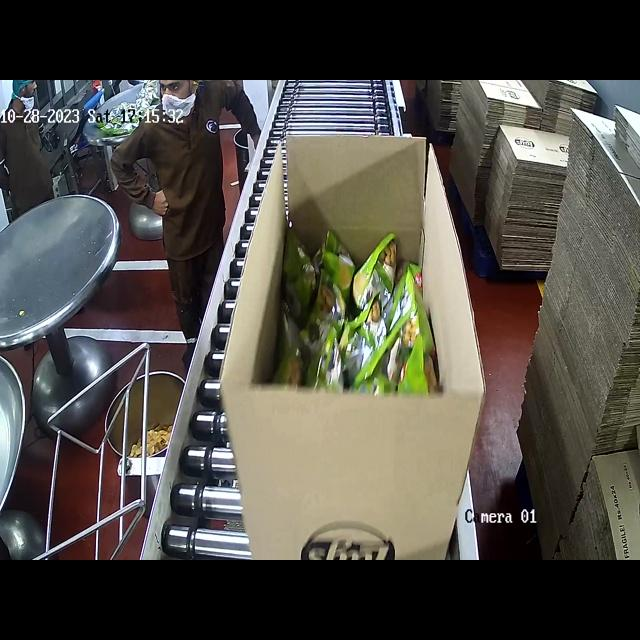yogurt: (273, 226, 432, 394)
